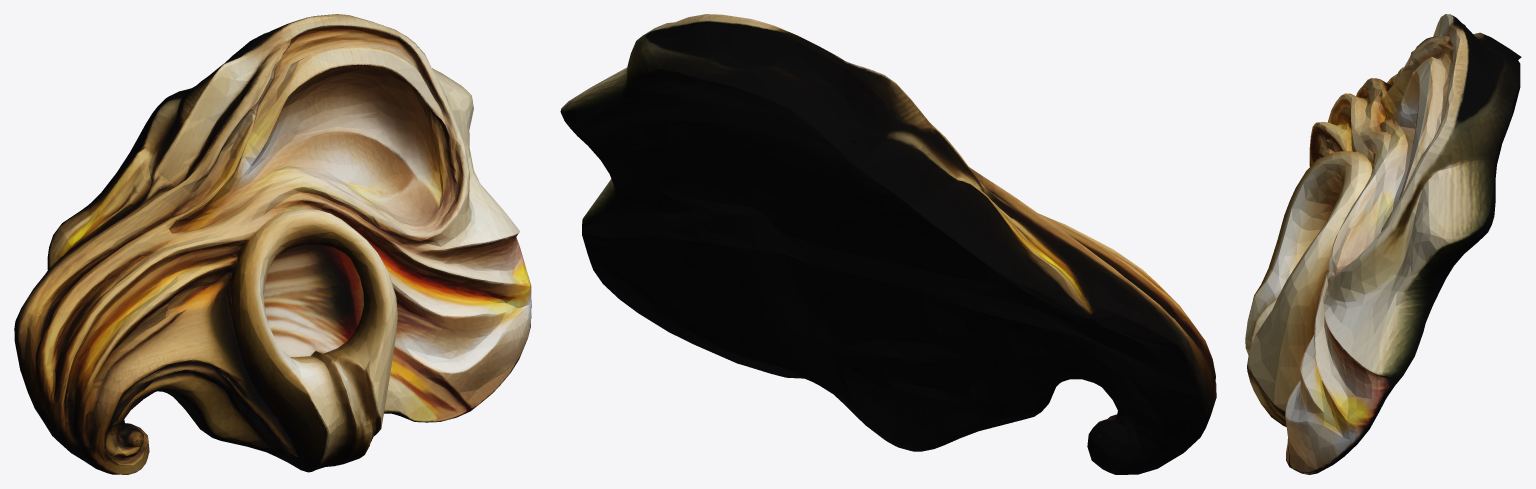
File: wooden-door-knocker-dune.jpeg.glb
3 views of the same model, side by side, from view 1: azimuth 30°, elevation 25°; view 2: azimuth 150°, elevation 25°; view 3: azimuth 270°, elevation 25° (orthographic). The views are drawn at different scales.
Parts seen in each view (by area): view 1: world; view 2: world; view 3: world.
Part boxes in pixels (x1,y1,x2,y2): world: (14,14,531,474); world: (560,14,1216,474); world: (1245,14,1521,474).
Size of the model in its own units: 1 by 0.7331 by 0.4428.
1 material, 1 textured.
